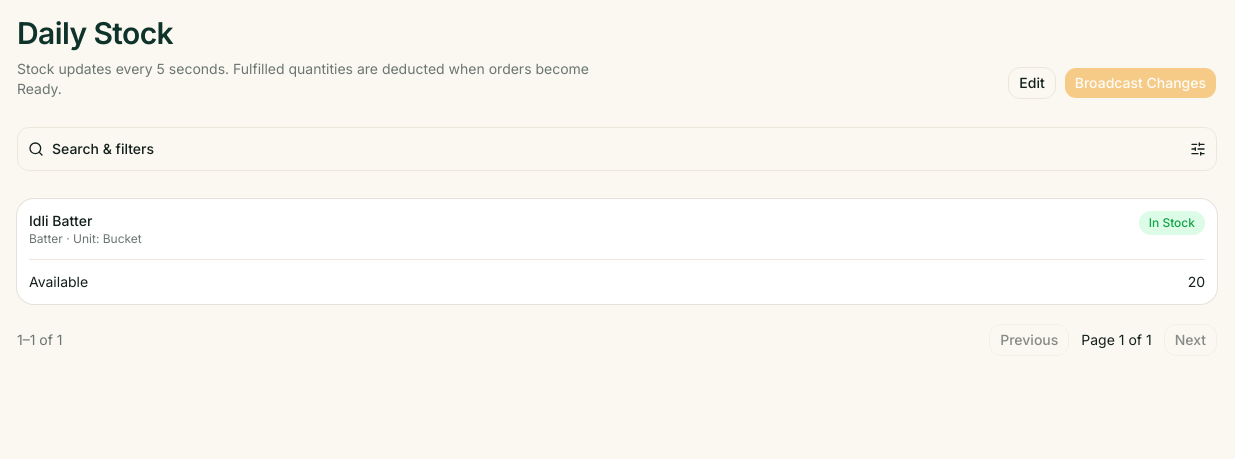
Scenario: admin tablet stock cards preserve edit, save and separate broadcast
The image size is (1235, 459).
expect the heading "Idli Batter" is shown: met, box [29,212,92,228]
Click the button "Edit" at (1032, 82), box [1008,66,1056,98]
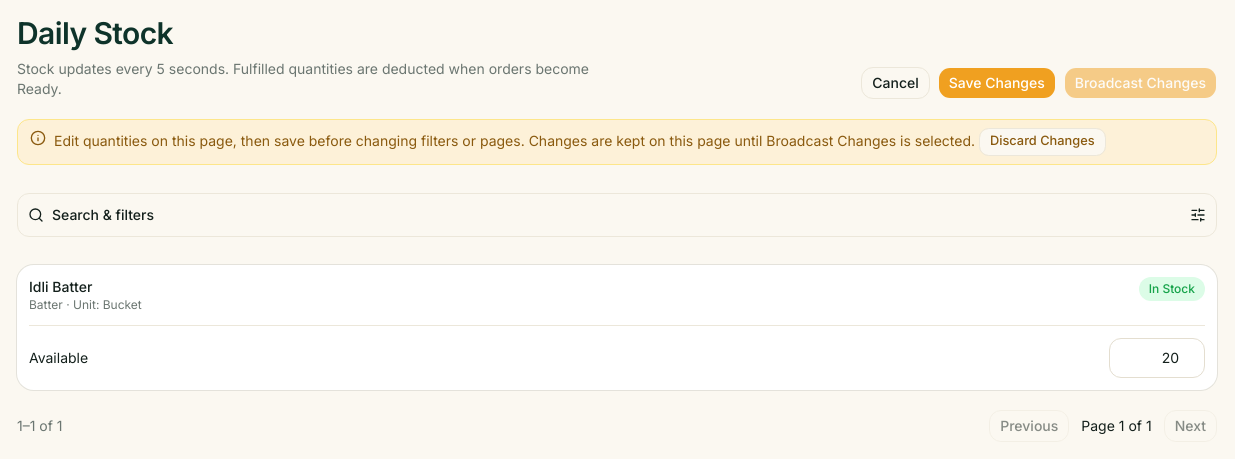
Replace the text in the number field named "Available stock for Idli Batter" with "15" at (1157, 358), box [1109,338,1205,378]
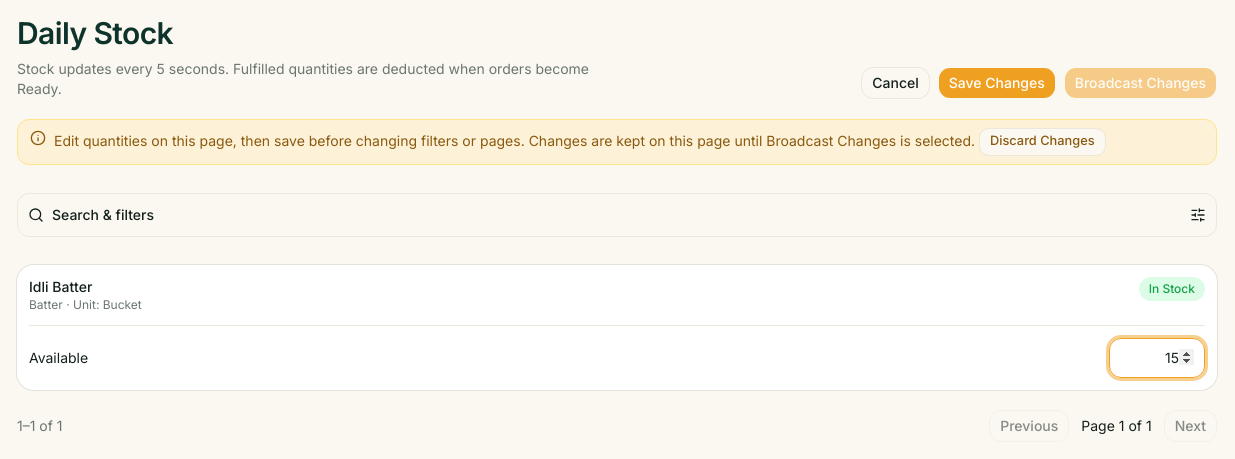
Click the button "Save Changes" at (997, 82), box [938,66,1056,98]
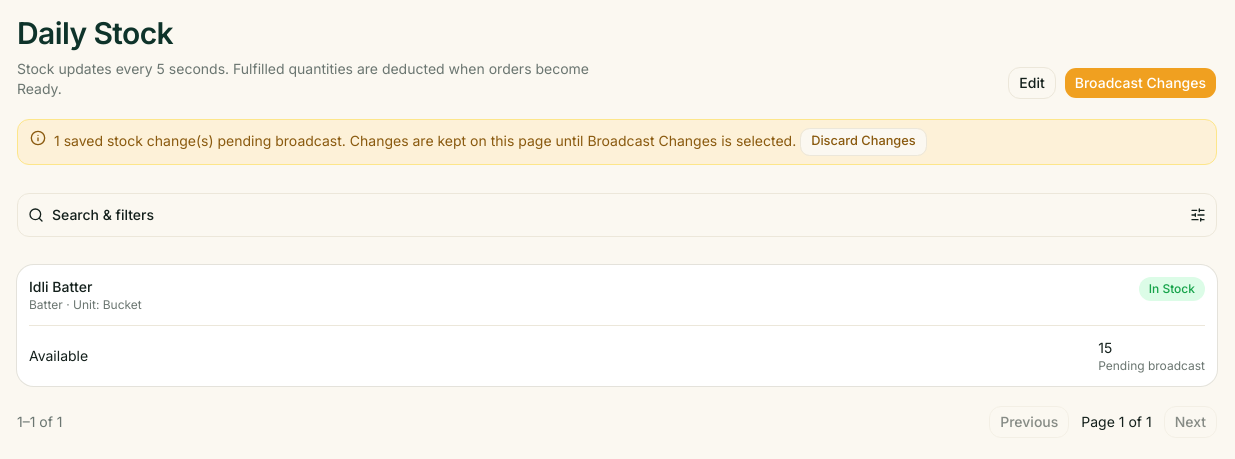
expect the text "Pending broadcast" is shown: met, box [1098,358,1205,374]
expect the button "Broadcast Changes" is enabled: met, box [1064,66,1217,98]
